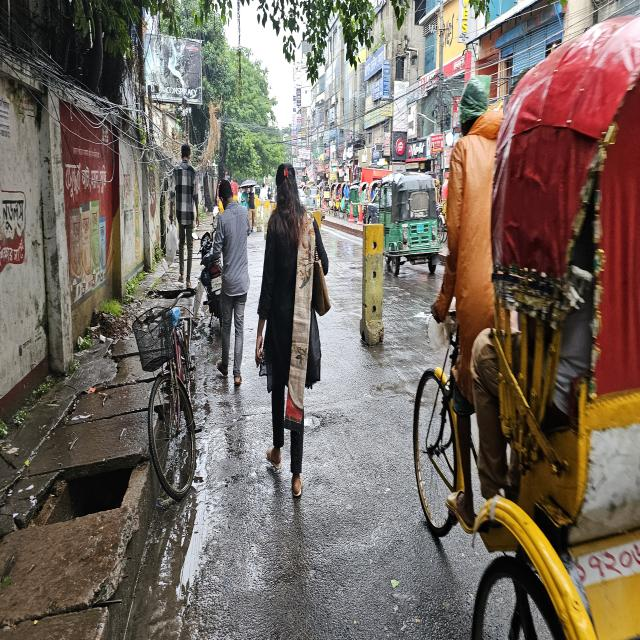drain_inlet: (24, 458, 141, 527)
